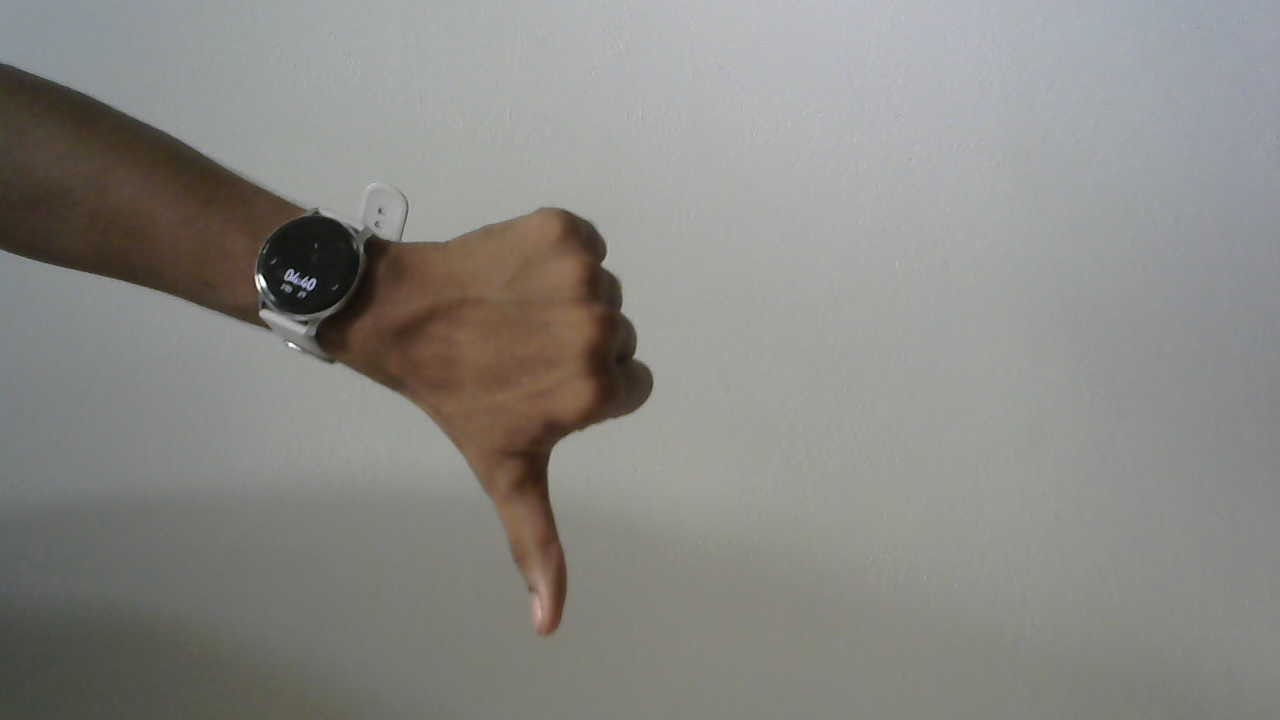thumbsdown: (394, 157, 674, 652)
